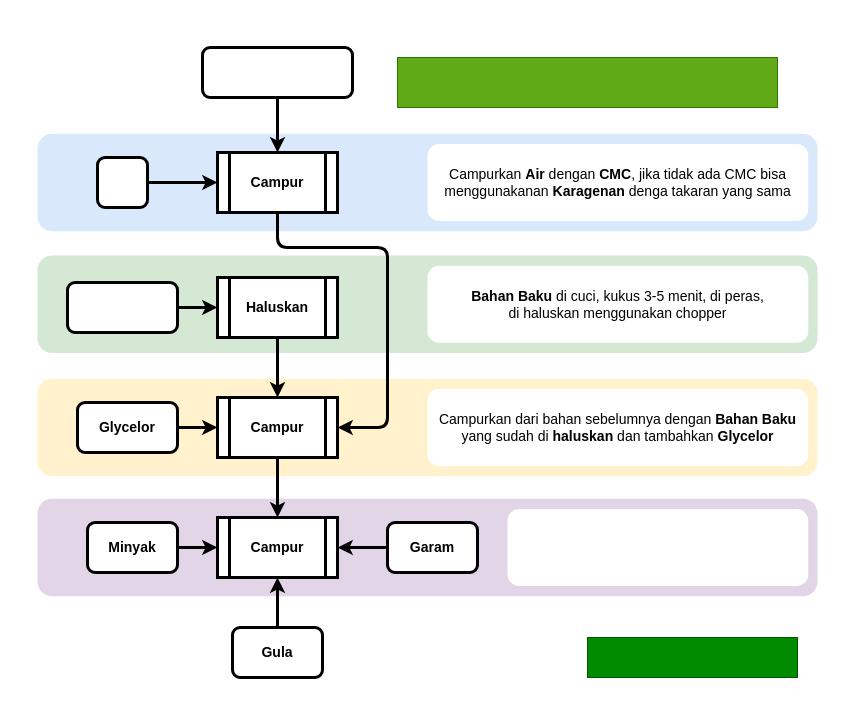
Image size: 854x724. Some labels were removed from this diagram. The centre of each missing label's shape, as x and y in pixels:
"Air" goes at (x=122, y=182).
"Bahan Baku" goes at (x=122, y=307).
"Campurkan bahan sebelumnya dengan Minyak, Gula, Garam dan Gula." goes at (x=657, y=547).
"CMC / Karagenan" goes at (x=277, y=72).
"kosabangsa 2024" goes at (x=692, y=657).
"Proses Pembuatan Nori" goes at (x=587, y=82).
